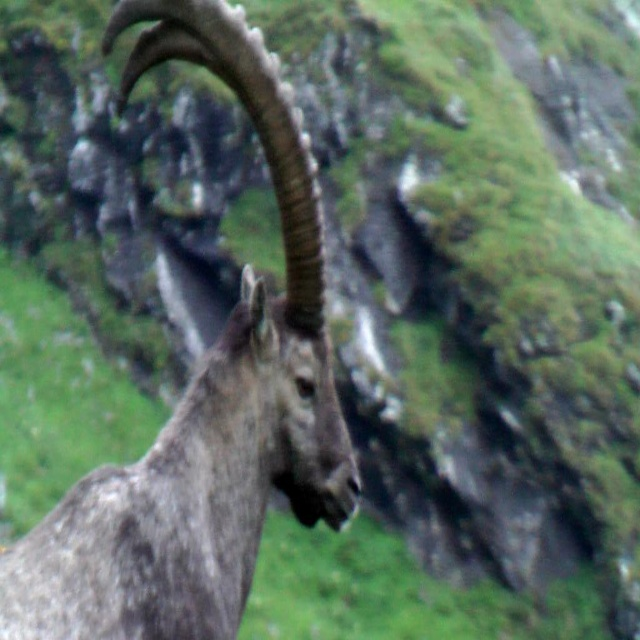Goat: (0, 62, 367, 634)
